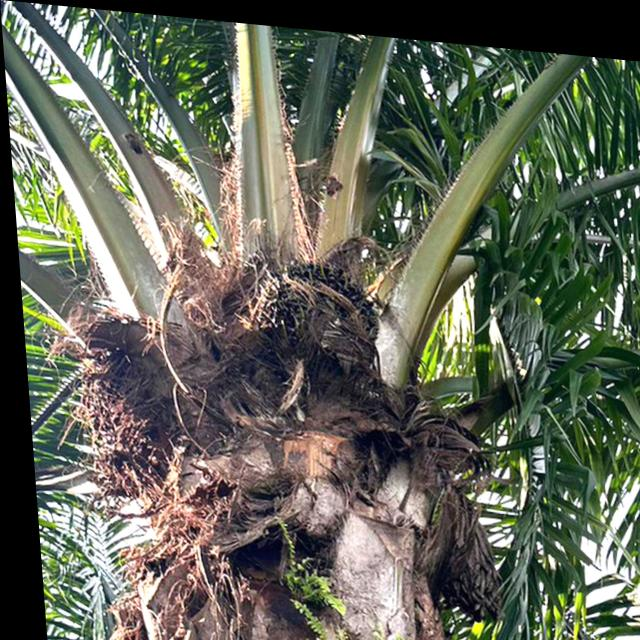ripe: (242, 229, 384, 376)
